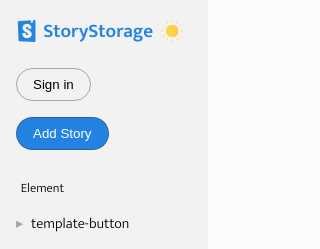
Test: LeftMenu - click event › If Clicked the theme button, should change to a moon button
What coordinates should you click on to do the following:
click the picture with alt text "sun"
I would click on:
 (172, 31)
Its box is [158,17,186,45].
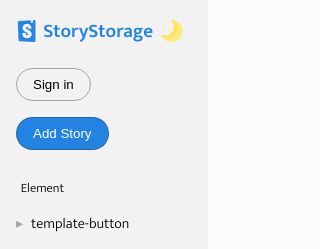
Expected: the picture with alt text "moon" is shown, [158,17,186,45]
